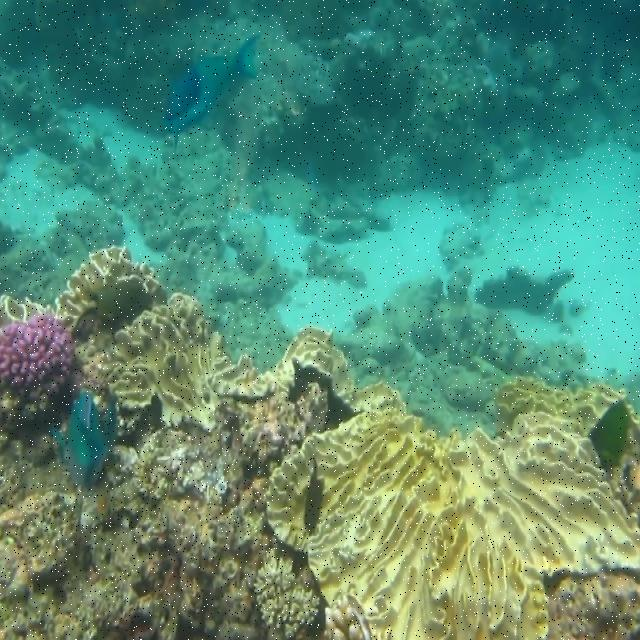fish: (161, 34, 265, 150), (49, 392, 120, 488)
reefs: (0, 243, 639, 639), (252, 550, 320, 634), (0, 315, 75, 388)
